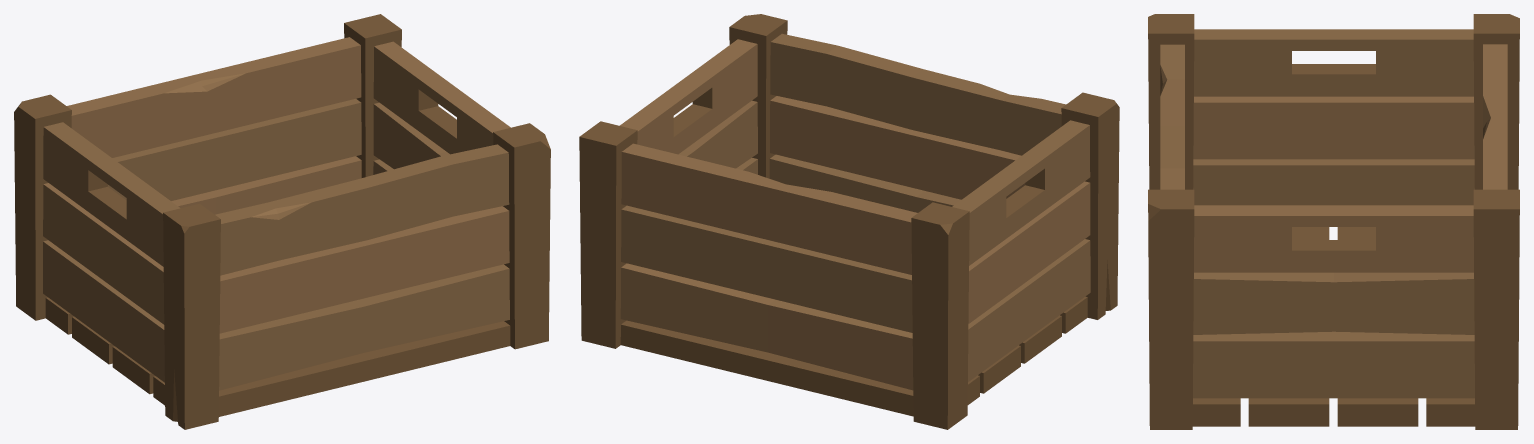
Rendered from Mesh_Props_Box_03.FBX.
The picture shows the model from 3 angles, left to right: view 1: azimuth 30°, elevation 25°; view 2: azimuth 150°, elevation 25°; view 3: azimuth 270°, elevation 25°; orthographic projection. The views are drawn at different scales.
Visible parts, largest first — view 1: Mesh_Props_Box_03; view 2: Mesh_Props_Box_03; view 3: Mesh_Props_Box_03.
Part boxes in pixels (<box>): Mesh_Props_Box_03: <box>14,14,550,429</box>; Mesh_Props_Box_03: <box>579,14,1119,429</box>; Mesh_Props_Box_03: <box>1148,14,1519,429</box>.
Bounding box in the file's own units: 26.22 × 13.85 × 21.08.
